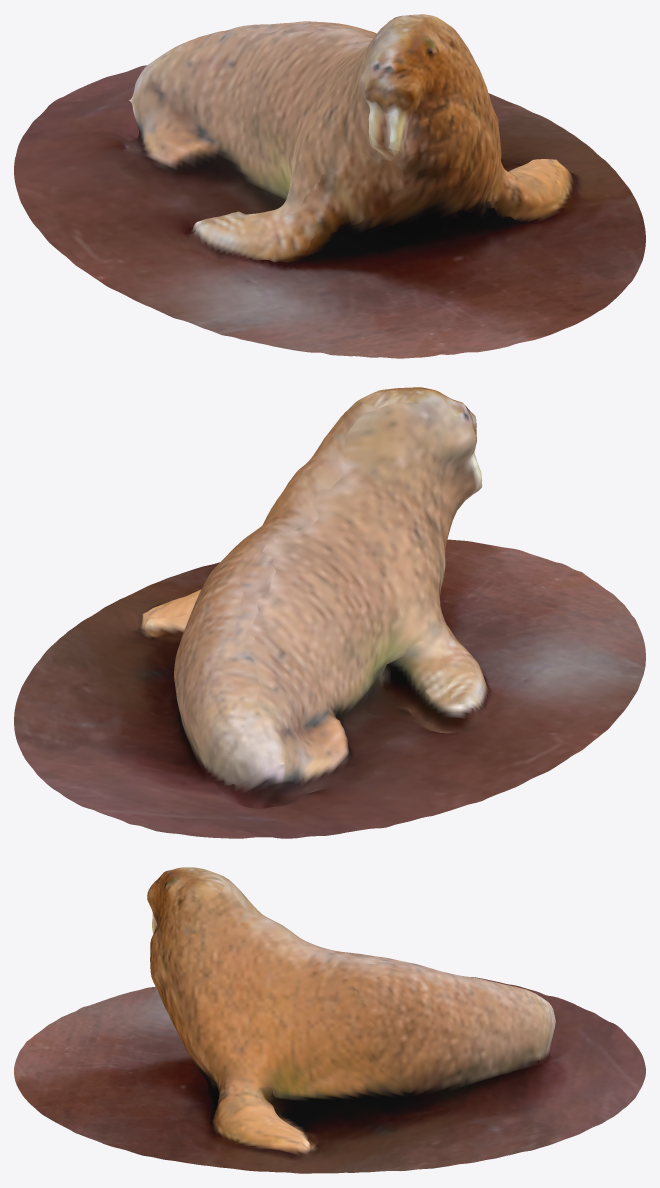
File: walrus.glb
The picture shows the model from 3 angles, top to bottom: view 1: azimuth 30°, elevation 25°; view 2: azimuth 150°, elevation 25°; view 3: azimuth 270°, elevation 25°; orthographic projection. The views are drawn at different scales.
Parts seen in each view (by area): view 1: Object_2; view 2: Object_2; view 3: Object_2.
Part boxes in pixels (x1=…): Object_2: x1=14, y1=14, x2=645, y2=358; Object_2: x1=14, y1=387, x2=645, y2=838; Object_2: x1=14, y1=867, x2=645, y2=1173.
Bounding box in the file's own units: 0.146 × 0.0699 × 0.1886.
1 material, 1 textured.
